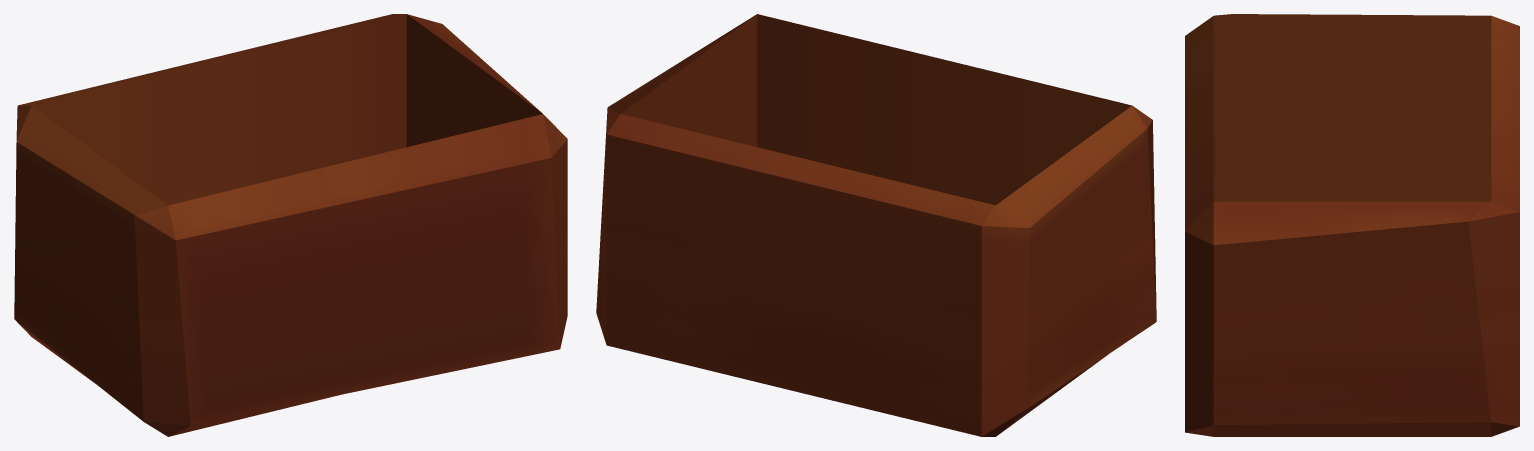
File: RumpusChest.fbx
3 views of the same model, side by side, from view 1: azimuth 30°, elevation 25°; view 2: azimuth 150°, elevation 25°; view 3: azimuth 270°, elevation 25° (orthographic).
Visible parts, largest first — view 1: Cube.008; view 2: Cube.008; view 3: Cube.008.
Part boxes in pixels (left/top/right/bottom): Cube.008: left=14, top=14, right=567, bottom=436; Cube.008: left=596, top=14, right=1156, bottom=436; Cube.008: left=1185, top=14, right=1519, bottom=436.
Size of the model in its own units: 561 by 293 by 377.
